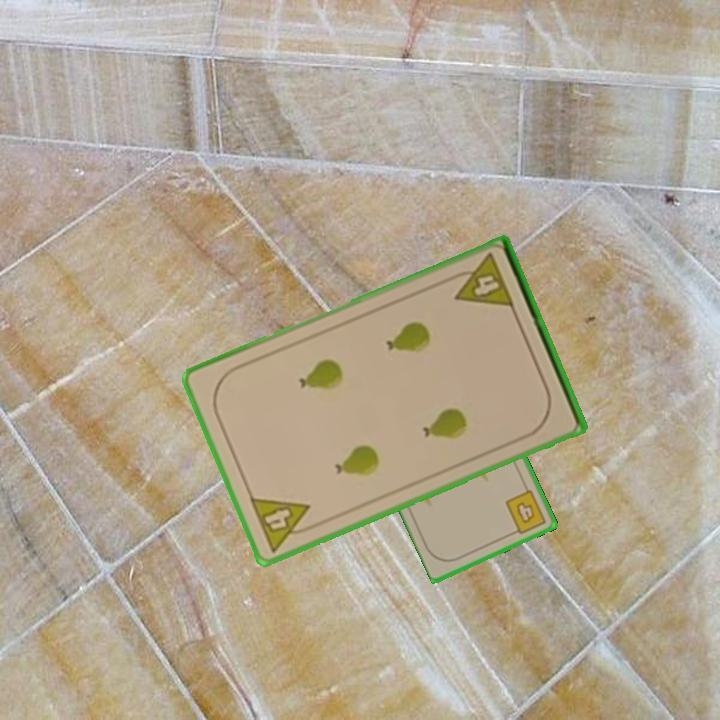4b: (502, 486, 549, 538)
4p: (246, 493, 320, 555), (445, 249, 517, 312)
